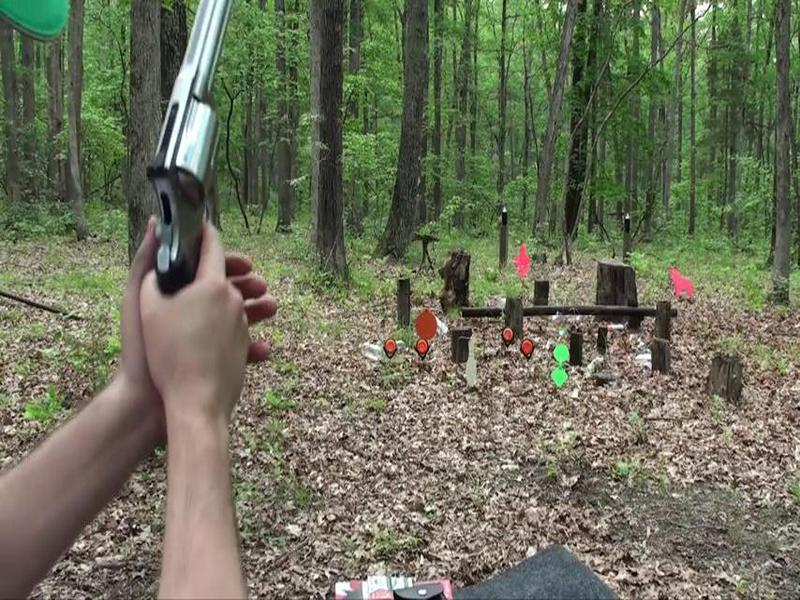Revolver: (115, 1, 250, 341)
